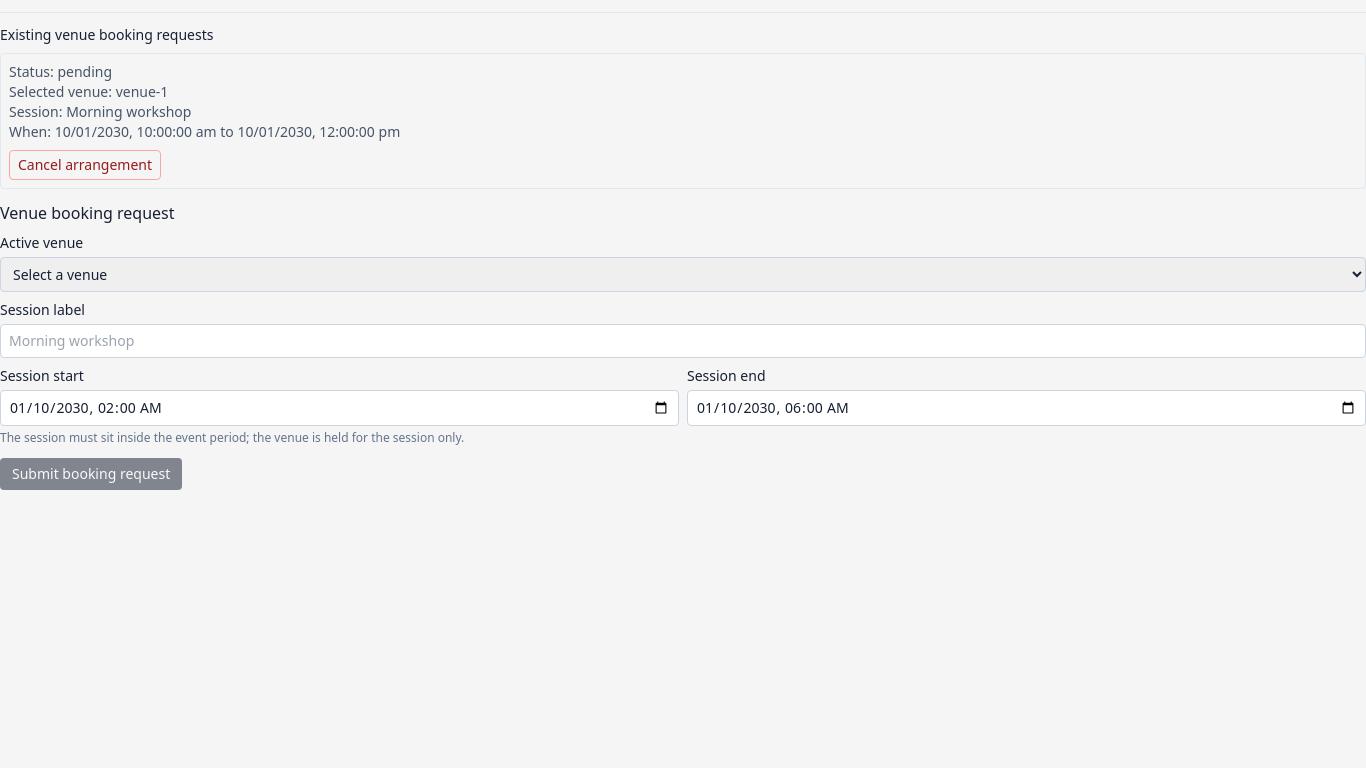
Scenario: SCRUM-109: Escape and "Keep arrangement" close the dialog without cancelling
Click the button with aria-label "Cancel arrangement for Morning workshop": (85, 165) [9,150,161,180]
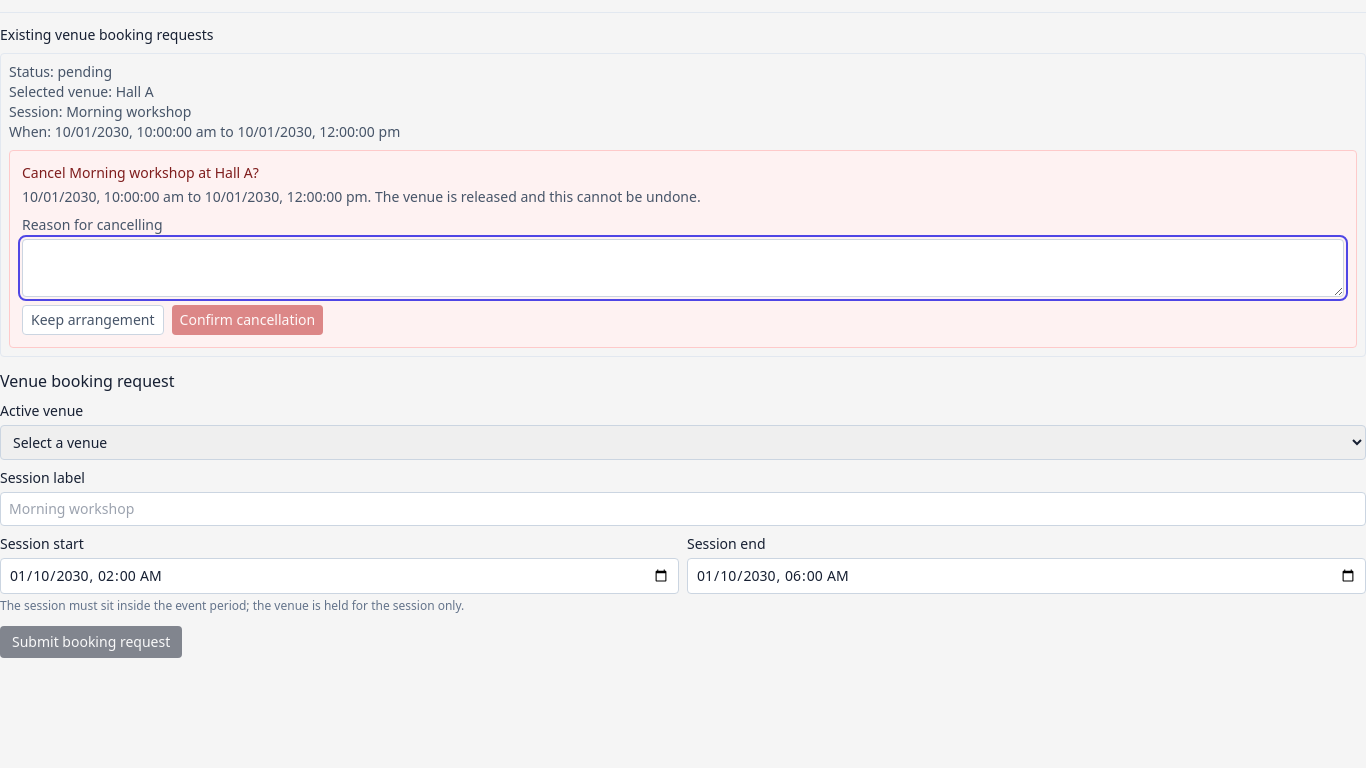
Press Escape in the dialog, box [9,150,1357,348]
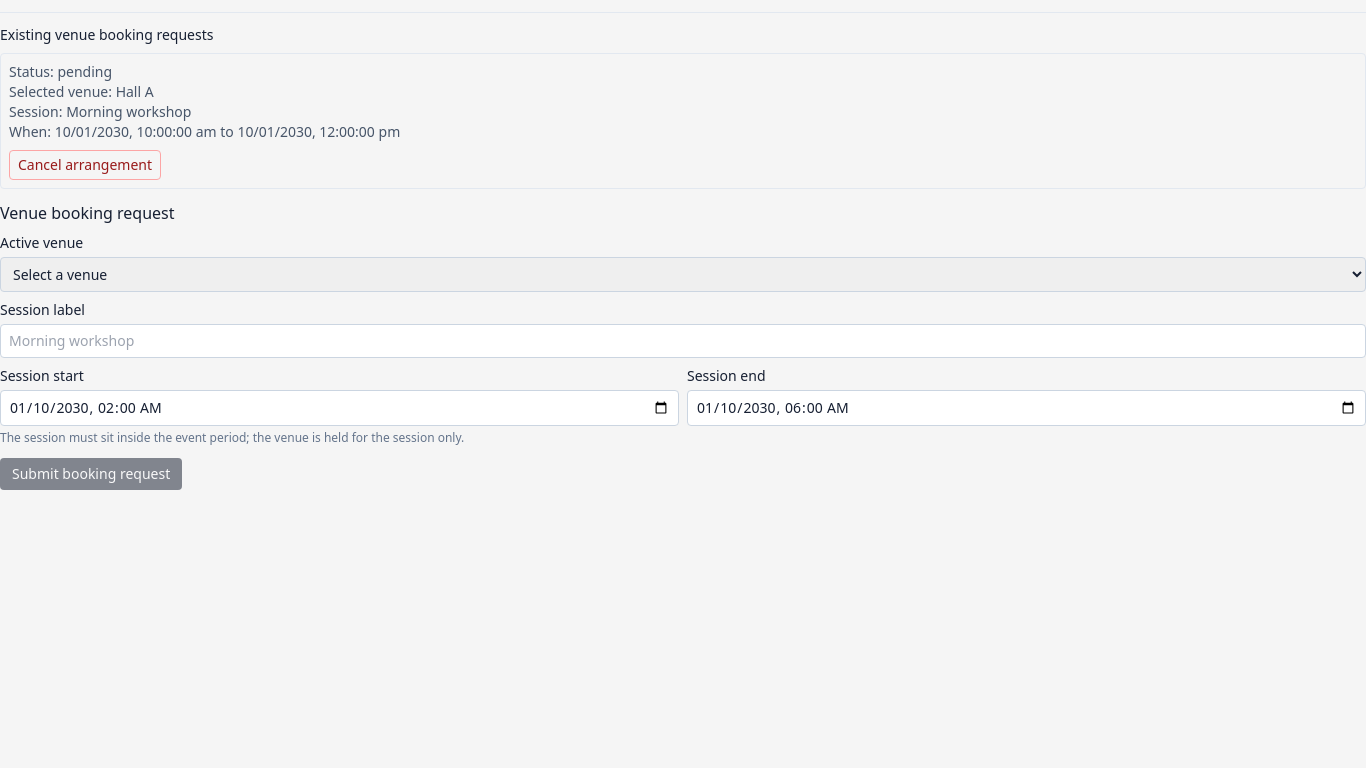
Result: the dialog is gone
Click the button with aria-label "Cancel arrangement for Morning workshop": (85, 165) [9,150,161,180]
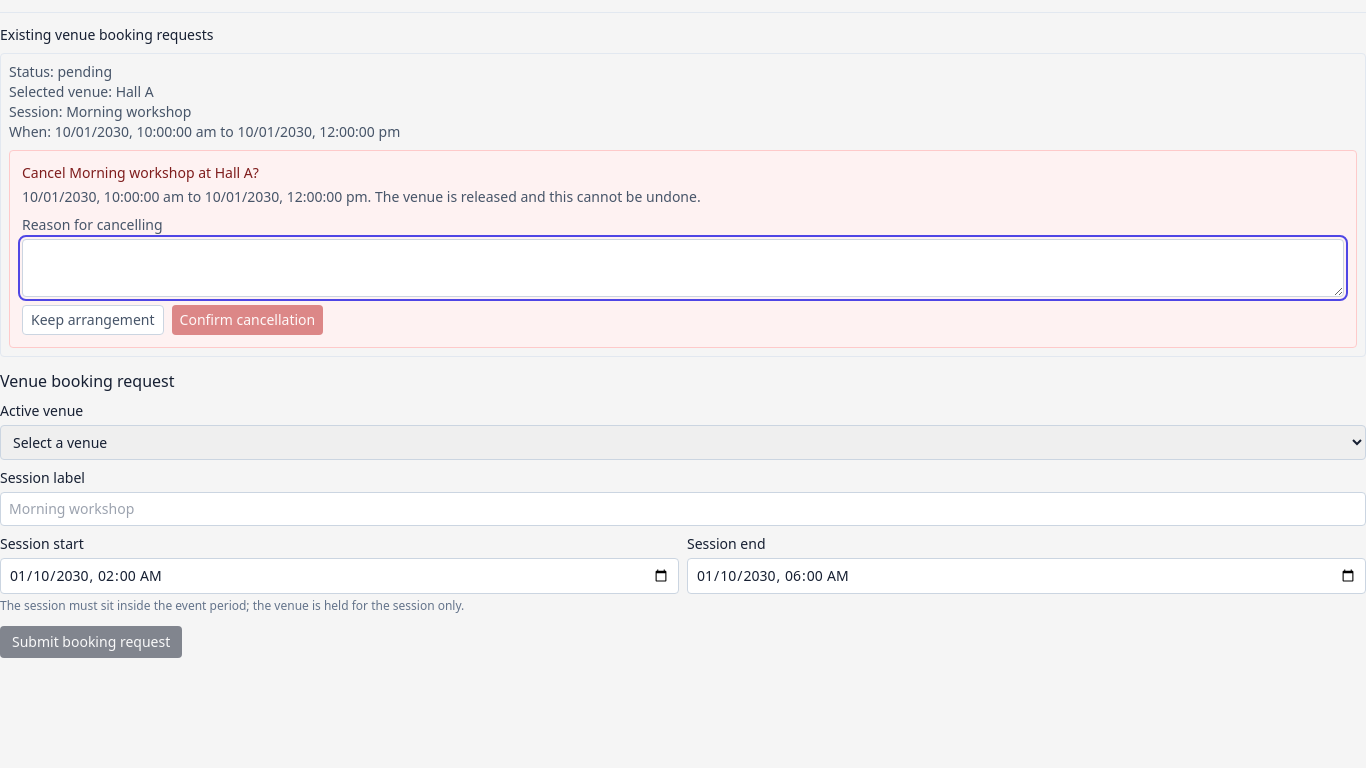
Click the button "Keep arrangement": (93, 320) [22,305,164,335]
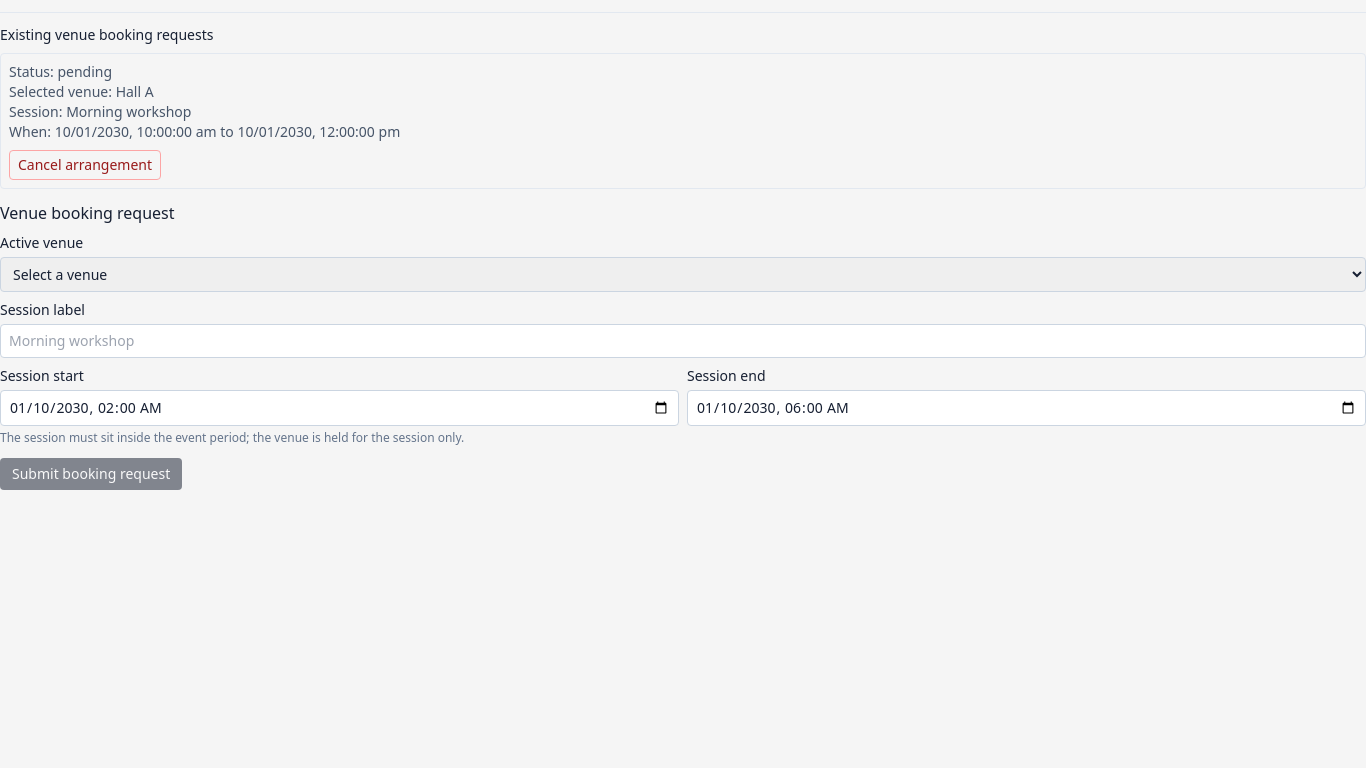
Result: the dialog is gone
